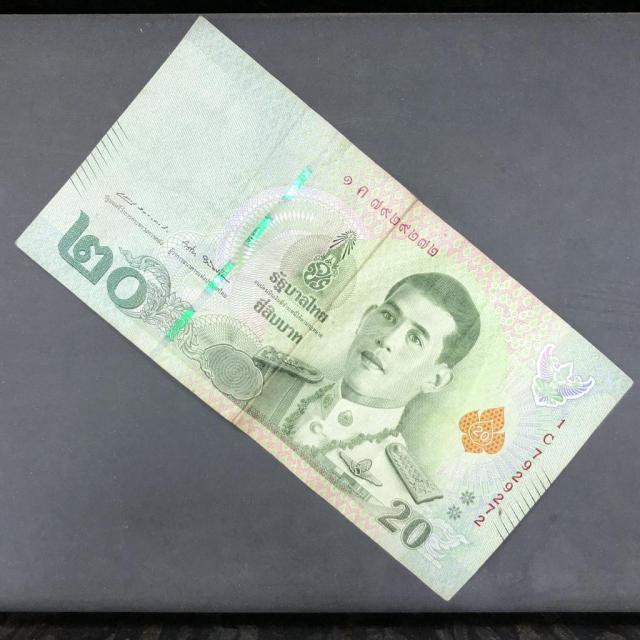THAI20: (14, 16, 633, 603)
